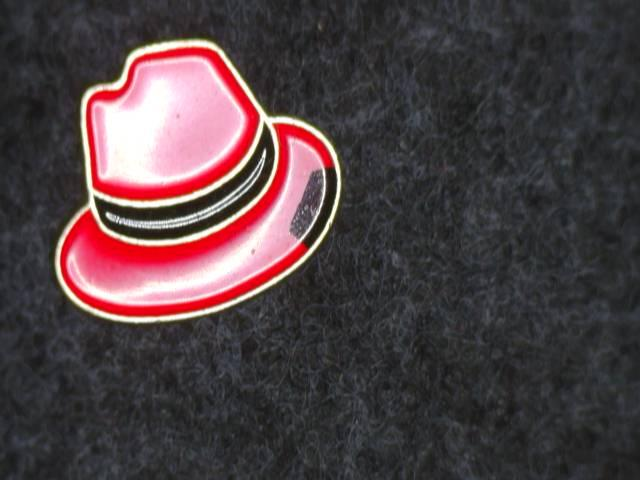Red-Hat: (31, 20, 364, 355)
Scratch: (285, 150, 351, 267)
